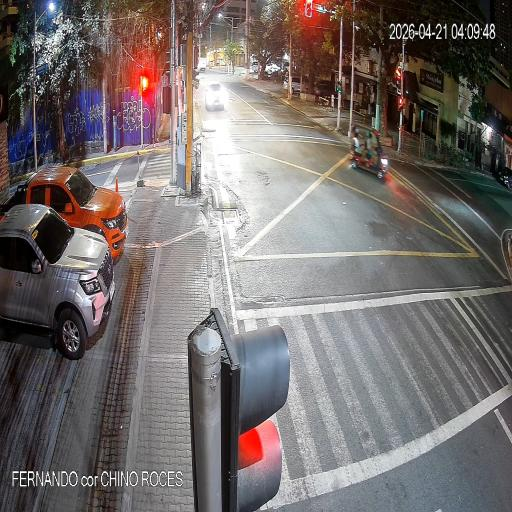Car: (2, 206, 126, 394), (0, 152, 146, 259), (202, 80, 229, 125)
